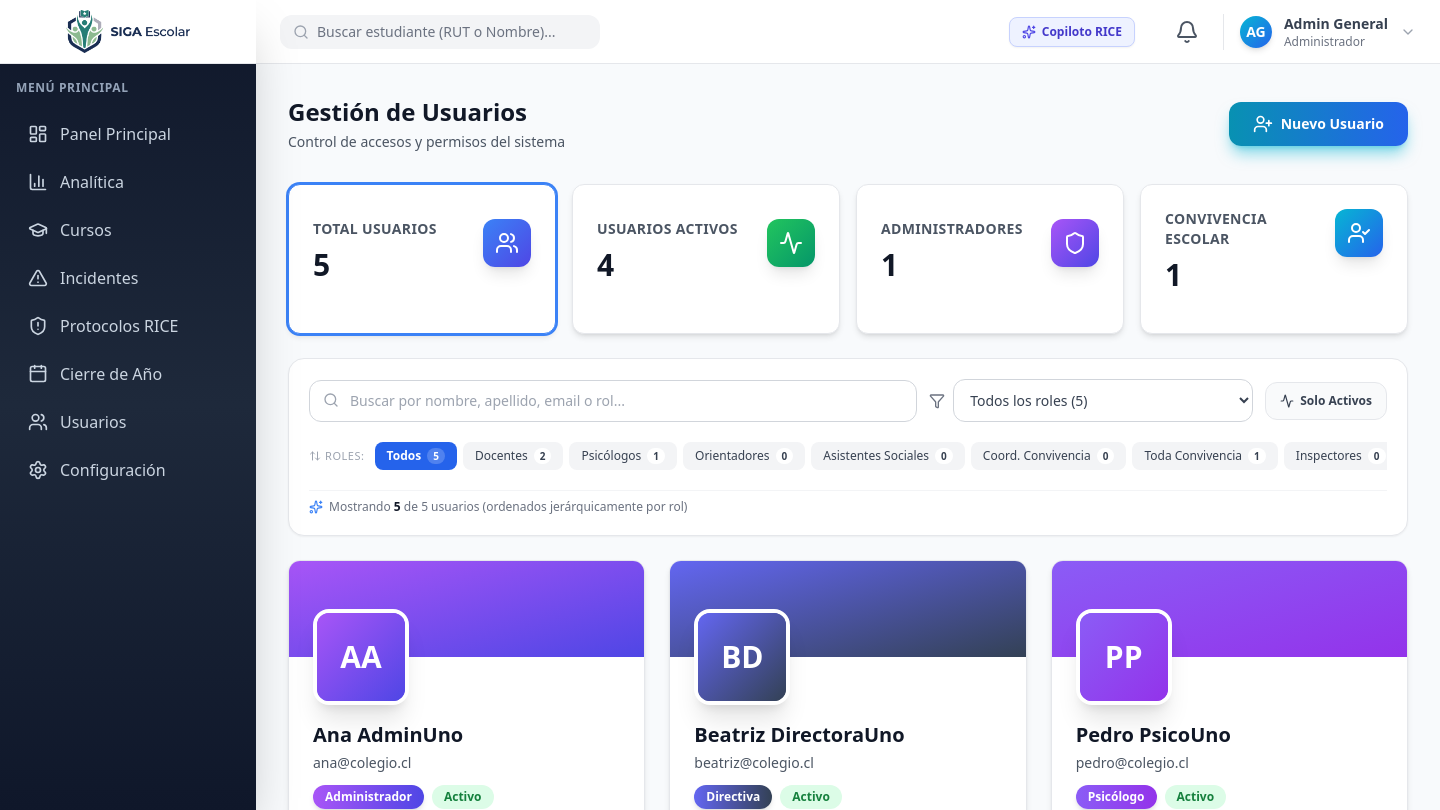
UsuariosPage - Ordenamiento y Filtros › permite filtrar en tiempo real mediante el buscador de texto
Type "carlos" into the field with placeholder "Buscar por nombre, apellido, email o rol...". click: (613, 400)
box: top-left (309, 380), bottom-right (917, 422)
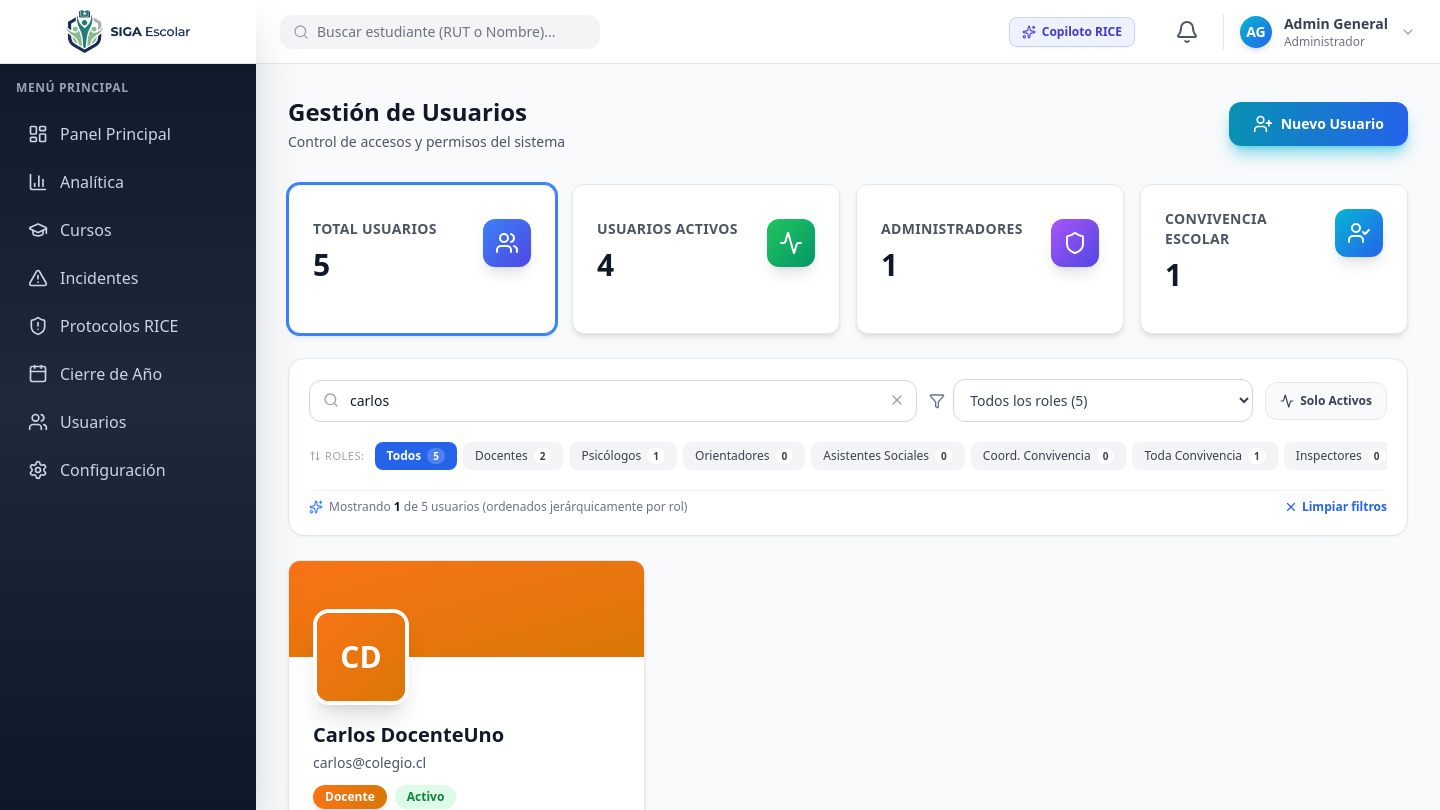
Check: the heading "Carlos DocenteUno" is shown, box top-left (313, 721), bottom-right (504, 748)
Check: the heading "Ana AdminUno" is gone
